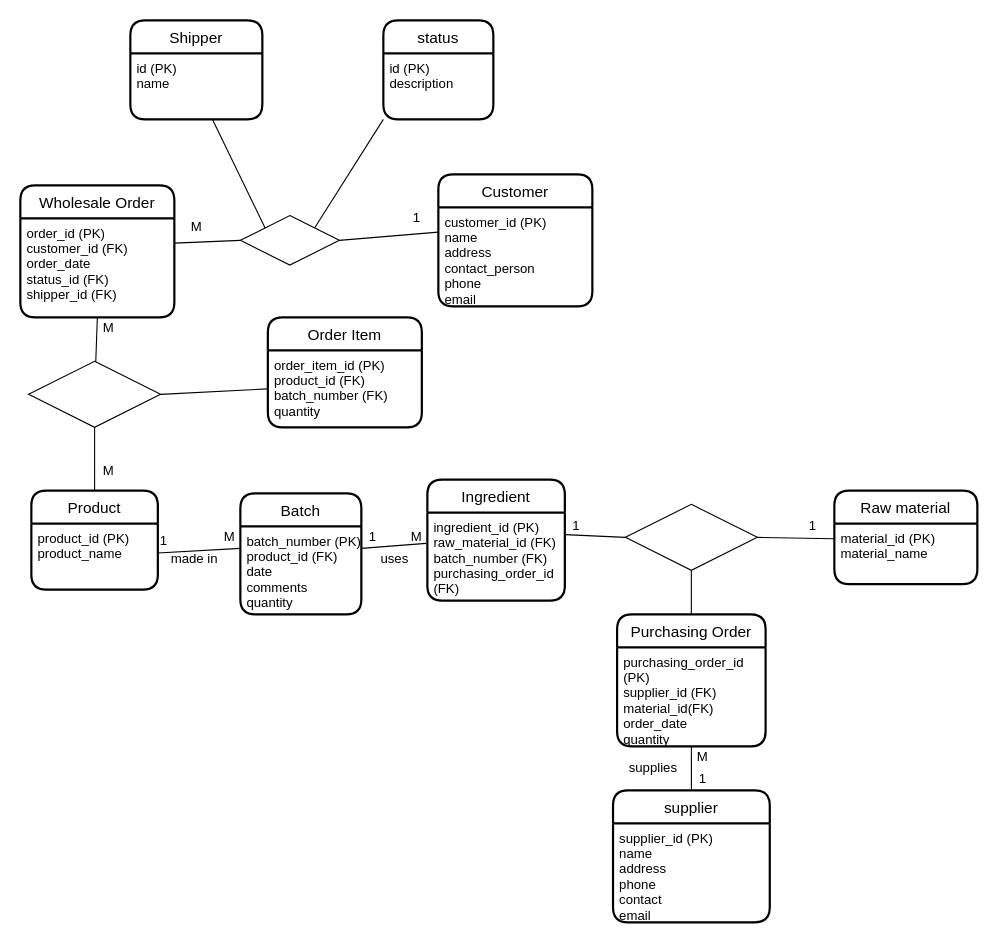
This 997x942 diagram has some shape labels left out. The shapes that lost their labels are listed below. From the top down, each one's centre as x and y in pixels, then its label:
the point at 289,240: places
the point at 94,393: Lists in
the point at 690,536: Contains
